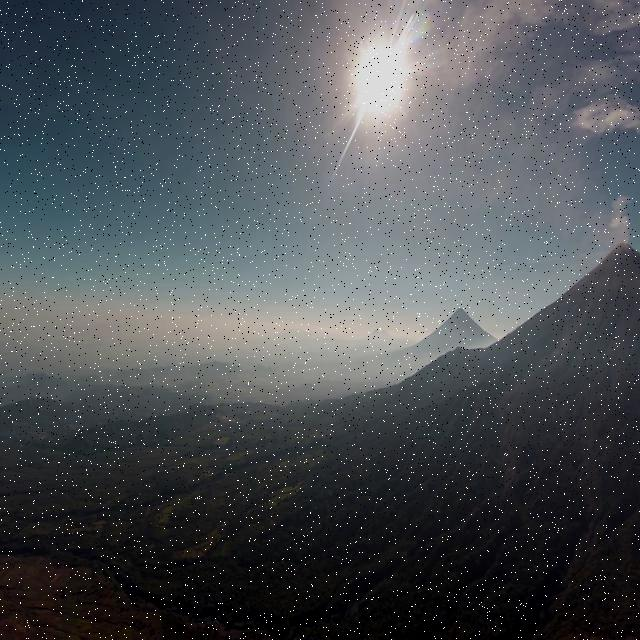Plume: (608, 189, 636, 243)
Summit: (608, 238, 637, 262)
